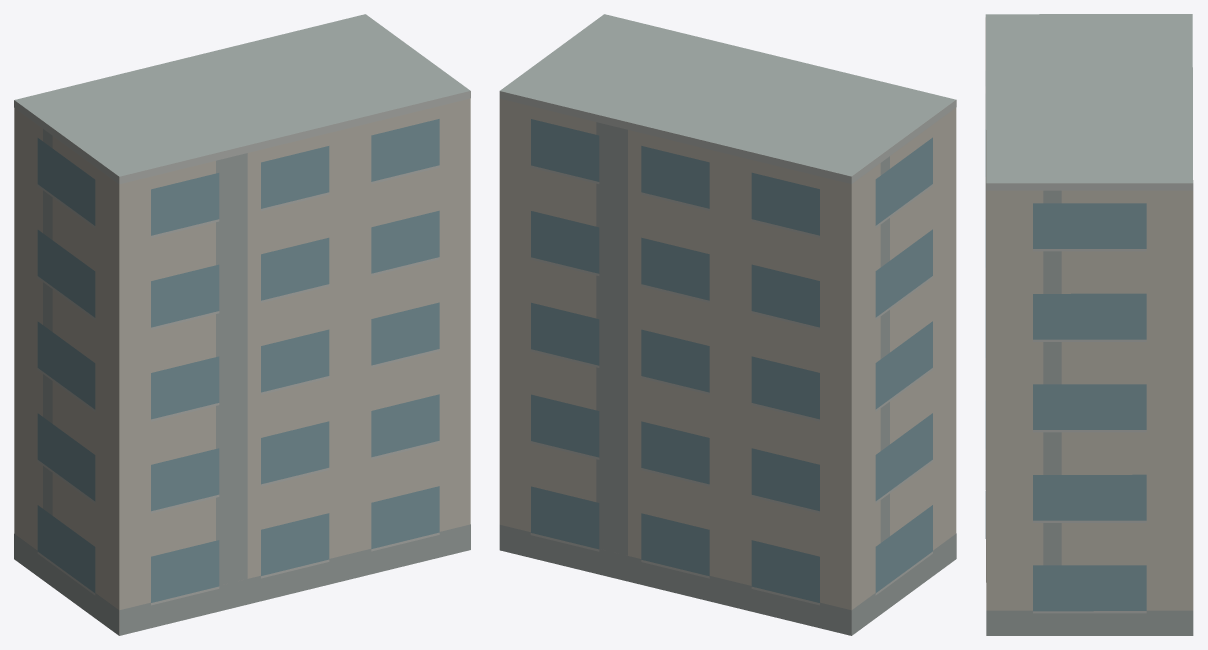
Rendered from survey-upis-33043635.glb.
3 renders of one model, left to right at view 1: azimuth 30°, elevation 25°; view 2: azimuth 150°, elevation 25°; view 3: azimuth 270°, elevation 25°, orthographic.
Visible parts, largest first — view 1: survey-upis-33043635.tmp; view 2: survey-upis-33043635.tmp; view 3: survey-upis-33043635.tmp.
Part boxes in pixels (box(x1,y1,x2,y2)): survey-upis-33043635.tmp: box(14, 14, 470, 635); survey-upis-33043635.tmp: box(499, 14, 956, 635); survey-upis-33043635.tmp: box(985, 14, 1193, 635).
Size of the model in its own units: 11.81 by 14.7 by 6.13.
